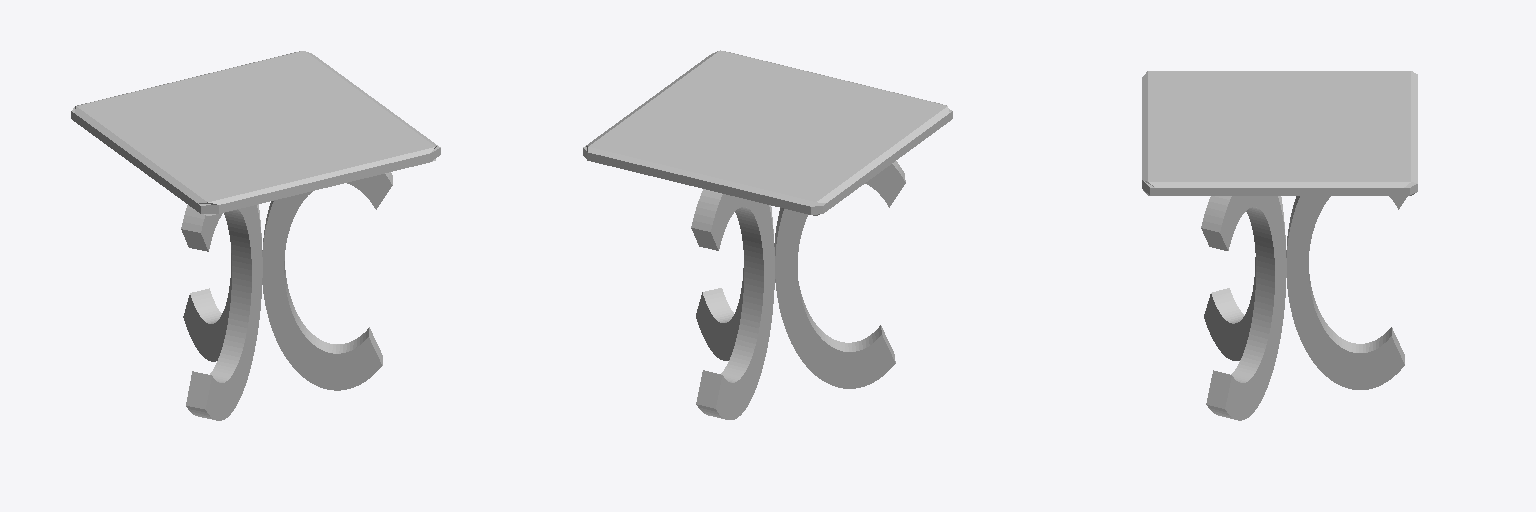
File: TableDeChevet.obj
3 views of the same model, side by side, from view 1: azimuth 30°, elevation 25°; view 2: azimuth 150°, elevation 25°; view 3: azimuth 270°, elevation 25° (orthographic).
Bounding box in the file's own units: 0.6751 × 0.6974 × 0.6715.